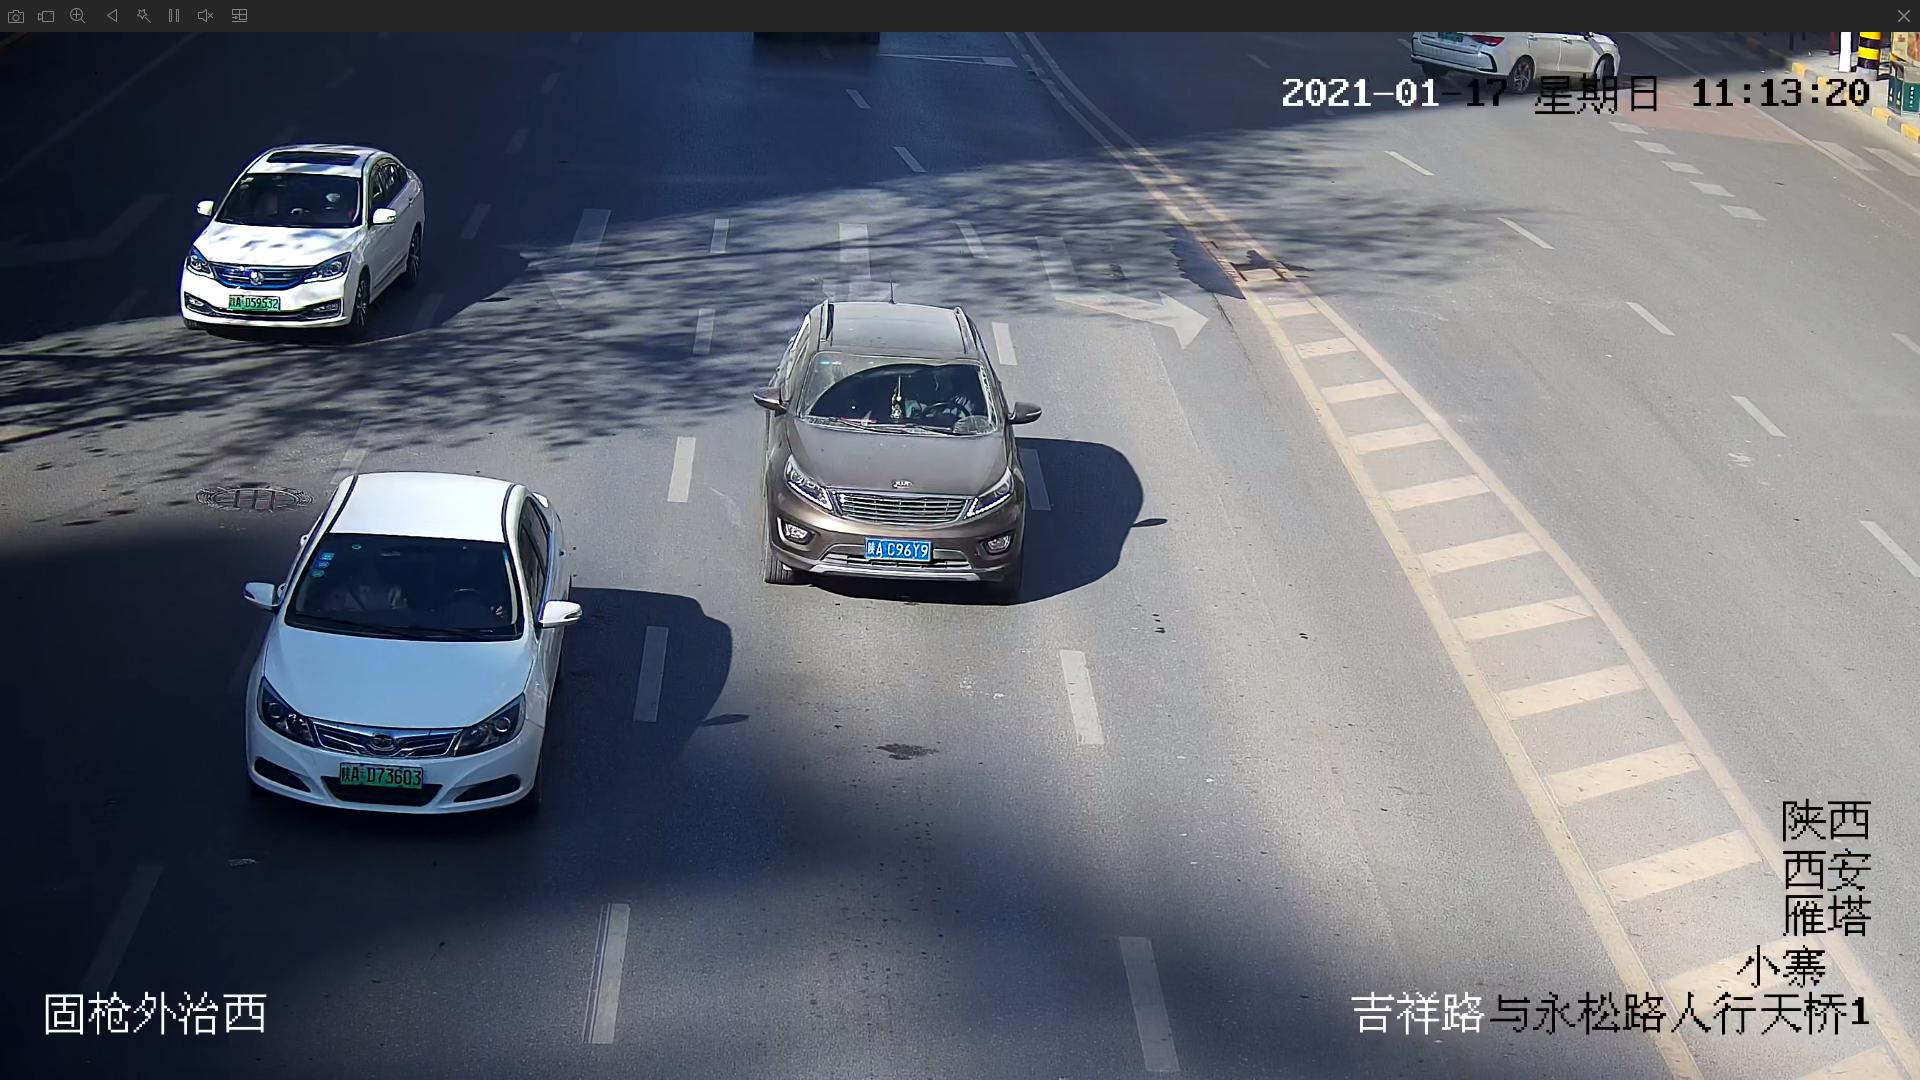dark-gray: (754, 291, 1044, 593)
white: (228, 468, 584, 814), (171, 142, 434, 339)
